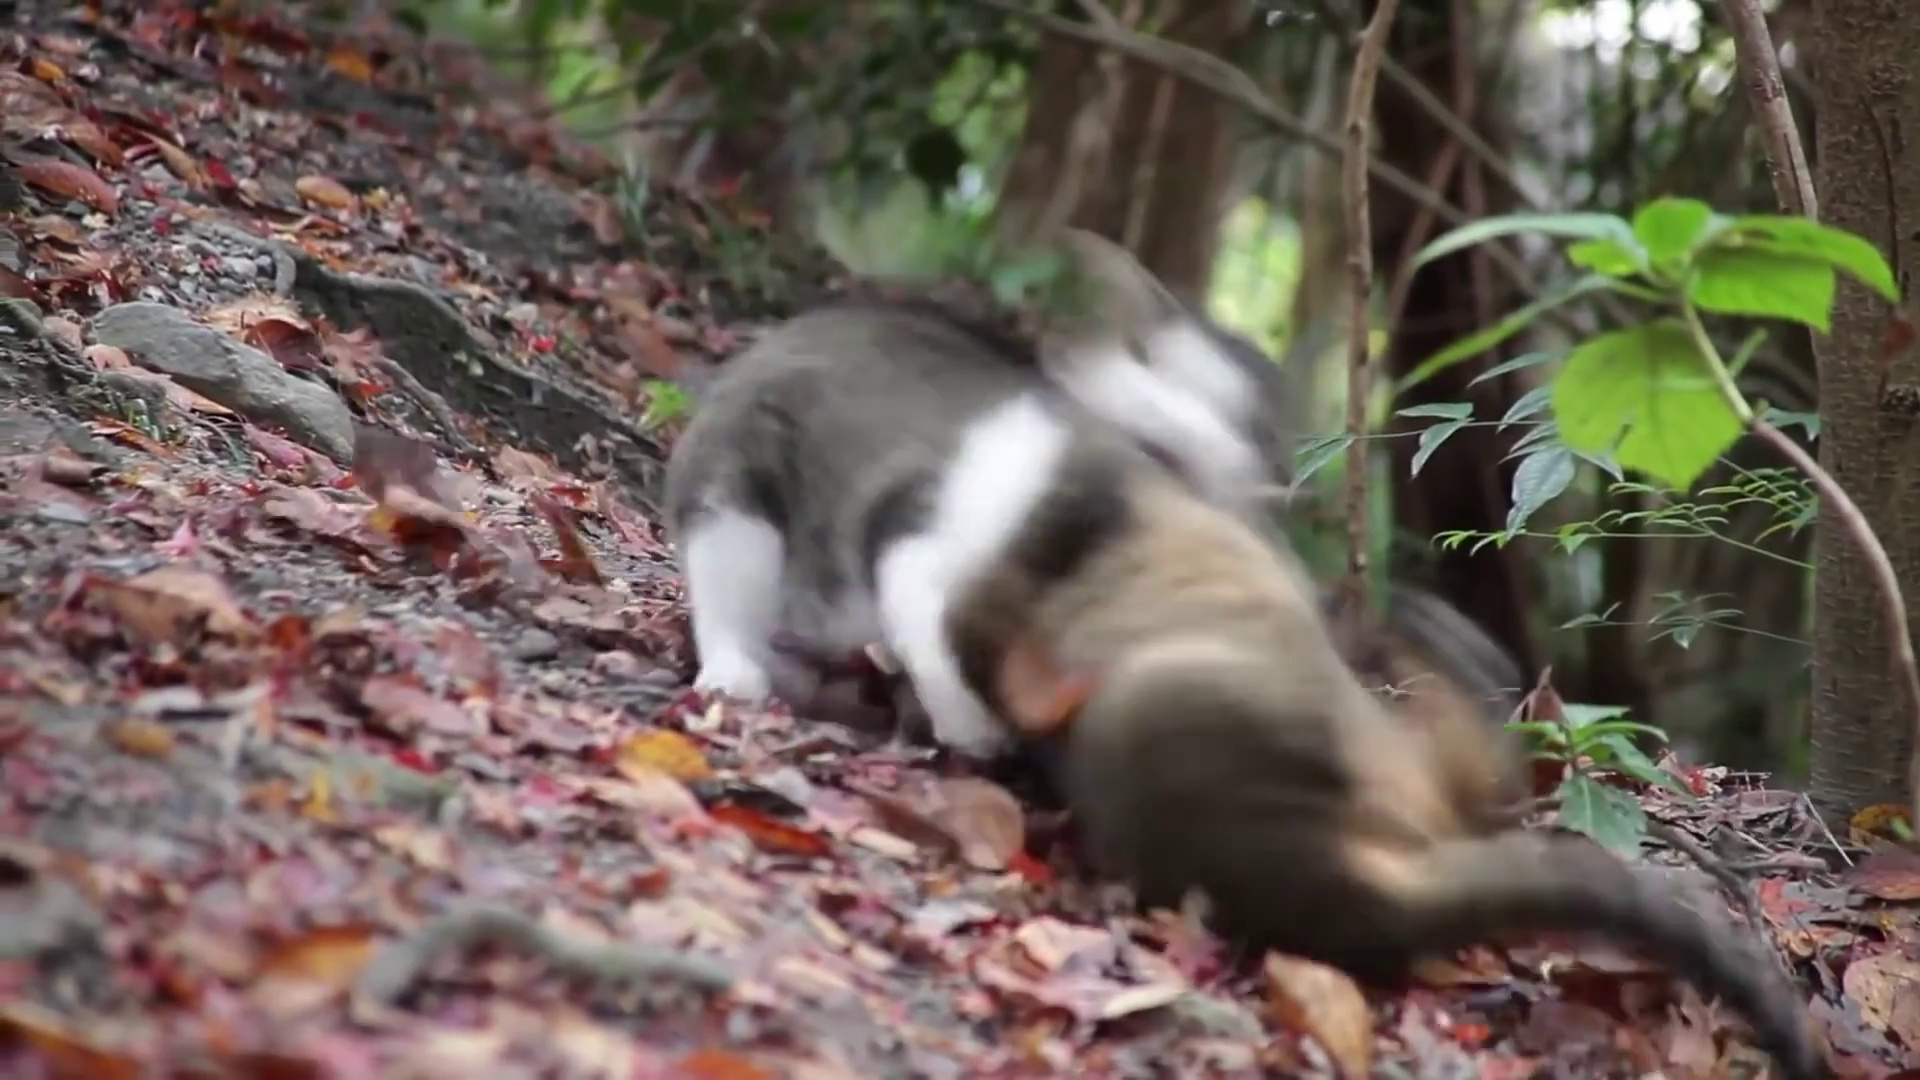black-white: (662, 295, 1275, 760)
pure black: (949, 429, 1825, 1071)
